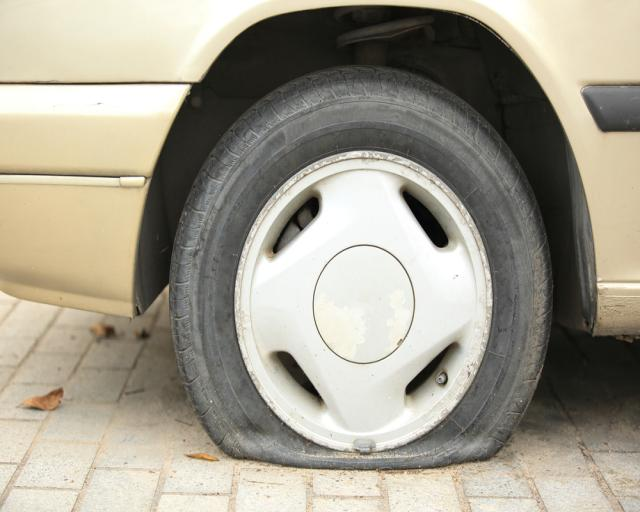tire flat: (167, 65, 554, 470)
